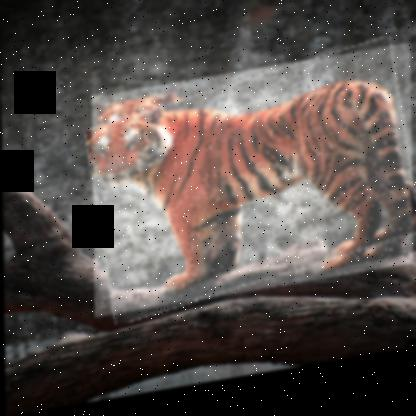Panthera tigris: (91, 57, 414, 322)
